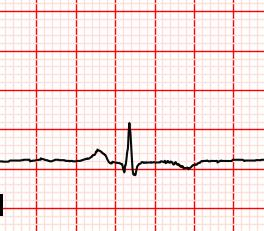T inversion: (169, 152, 211, 173)
